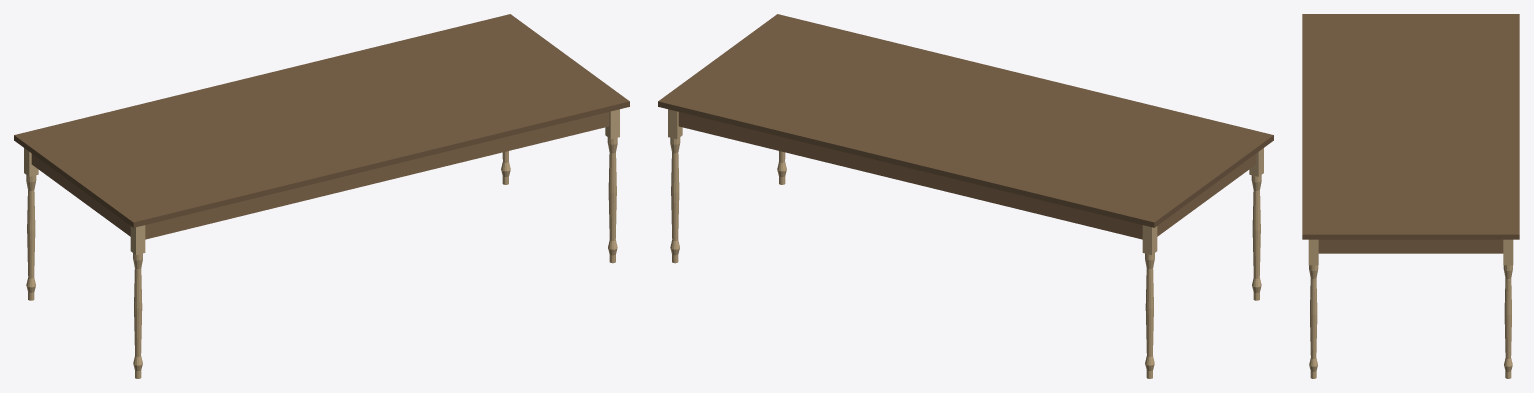
File: BIB-DTB-8-seat.glb
3 views of the same model, side by side, from view 1: azimuth 30°, elevation 25°; view 2: azimuth 150°, elevation 25°; view 3: azimuth 270°, elevation 25° (orthographic). The views are drawn at different scales.
Visible parts, largest first — view 1: top:pbr, apron-f:pbr, leg-fl:pbr, leg-fr:pbr, leg-bl:pbr, apron-l:pbr; view 2: top:pbr, apron-b:pbr, leg-bl:pbr, leg-br:pbr, leg-fl:pbr, apron-l:pbr; view 3: top:pbr, apron-r:pbr, leg-fr:pbr, leg-br:pbr.
Part boxes in pixels (x1=…): top:pbr: x1=14, y1=14, x2=629, y2=227; apron-f:pbr: x1=145, y1=112, x2=609, y2=239; leg-fl:pbr: x1=130, y1=225, x2=145, y2=378; leg-fr:pbr: x1=605, y1=109, x2=619, y2=263; leg-bl:pbr: x1=24, y1=148, x2=38, y2=300; apron-l:pbr: x1=31, y1=154, x2=130, y2=236; top:pbr: x1=658, y1=14, x2=1273, y2=227; apron-b:pbr: x1=678, y1=112, x2=1142, y2=239; leg-bl:pbr: x1=1142, y1=225, x2=1157, y2=378; leg-br:pbr: x1=668, y1=109, x2=682, y2=263; leg-fl:pbr: x1=1249, y1=148, x2=1263, y2=300; apron-l:pbr: x1=1157, y1=154, x2=1256, y2=236; top:pbr: x1=1302, y1=14, x2=1519, y2=239; apron-r:pbr: x1=1318, y1=239, x2=1503, y2=253; leg-fr:pbr: x1=1308, y1=239, x2=1318, y2=378; leg-br:pbr: x1=1503, y1=239, x2=1513, y2=378.
Bounding box in the file's own units: 2.4 × 0.75 × 1.
